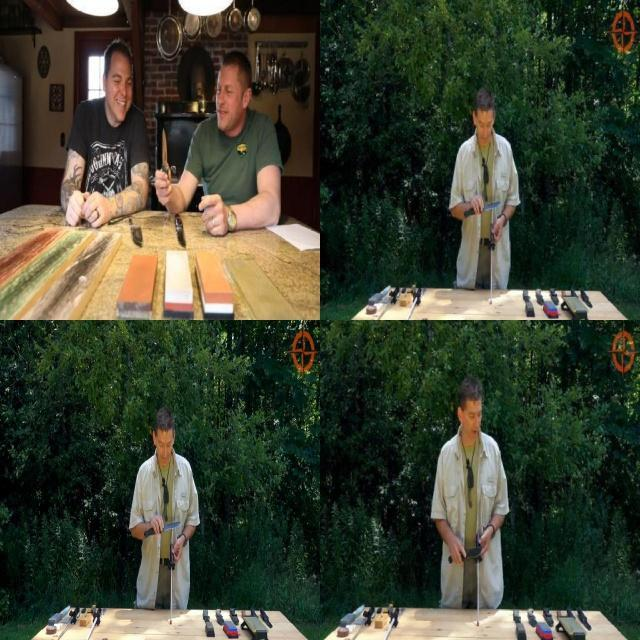-: (154, 121, 173, 200), (462, 198, 502, 220), (142, 518, 182, 540), (447, 545, 483, 564)
